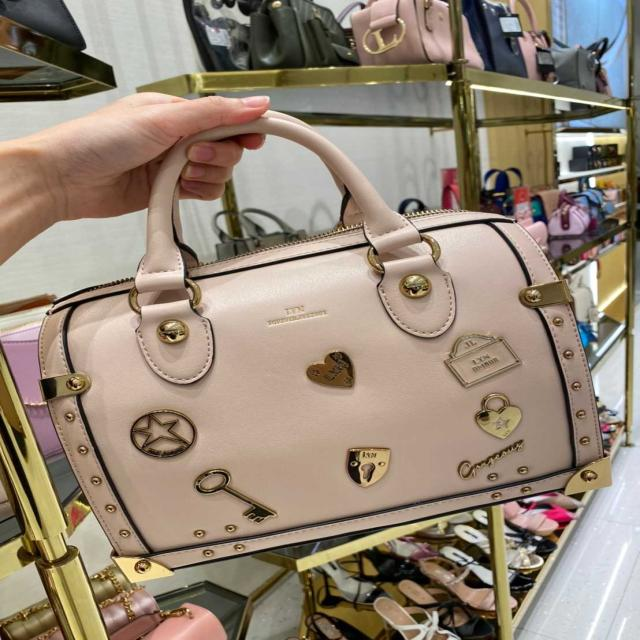Handbag: (30, 100, 612, 586)
